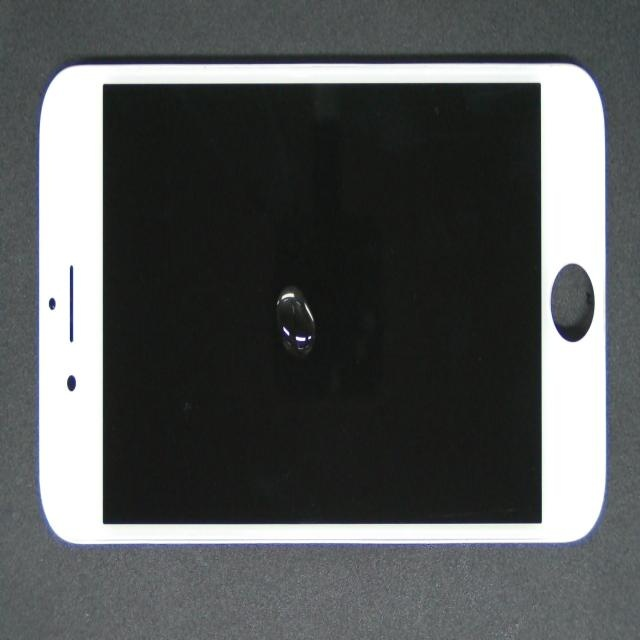oil: (148, 115, 425, 441)
